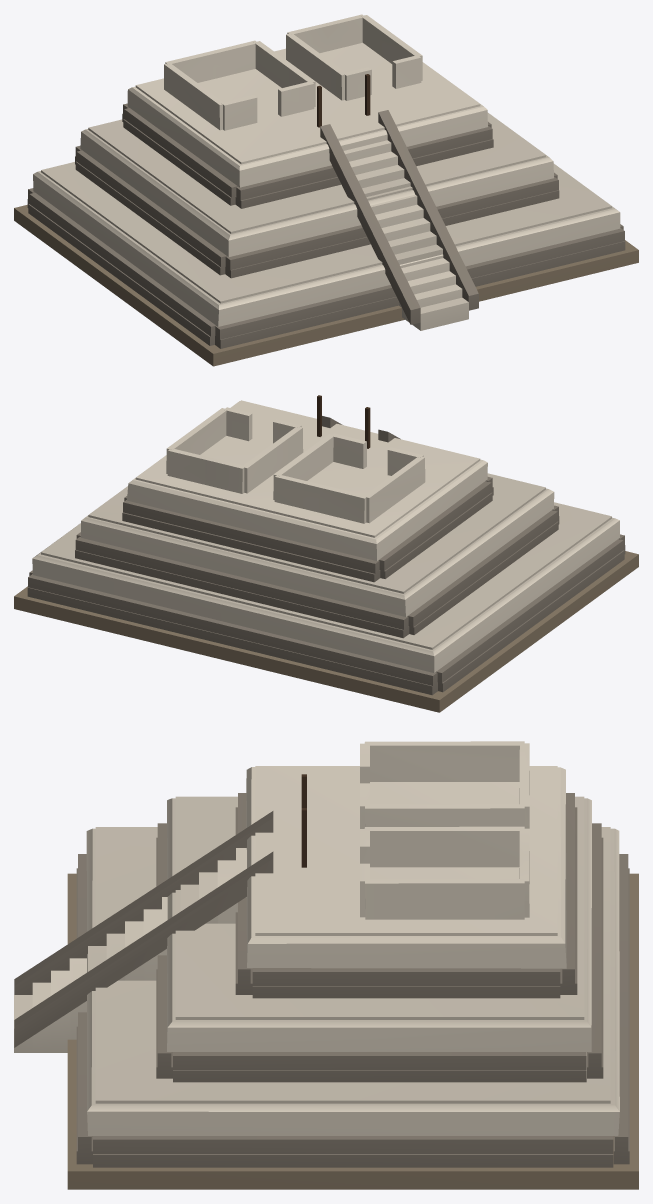
The model's file is caral_huaca_idolos_lod0.glb.
3 views of the same model, one above another, from view 1: azimuth 30°, elevation 25°; view 2: azimuth 150°, elevation 25°; view 3: azimuth 270°, elevation 25° (orthographic). The views are drawn at different scales.
Parts seen in each view (by area): view 1: GEO-Arch_huaca_idolos_LOD0; view 2: GEO-Arch_huaca_idolos_LOD0; view 3: GEO-Arch_huaca_idolos_LOD0.
Part boxes in pixels (x1=…): GEO-Arch_huaca_idolos_LOD0: x1=14, y1=14, x2=638, y2=366; GEO-Arch_huaca_idolos_LOD0: x1=14, y1=395, x2=638, y2=712; GEO-Arch_huaca_idolos_LOD0: x1=14, y1=741, x2=638, y2=1189.
Size of the model in its own units: 21.2 by 8.25 by 18.81.
